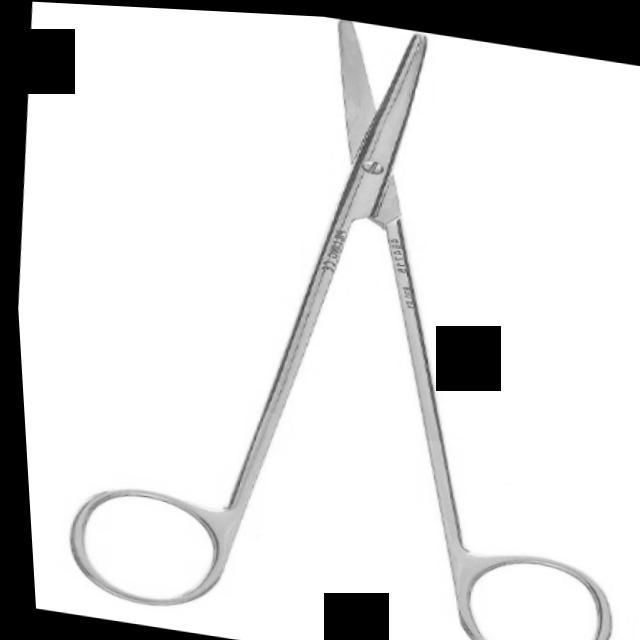Metzenbaum Sciccors: (22, 1, 640, 640)
